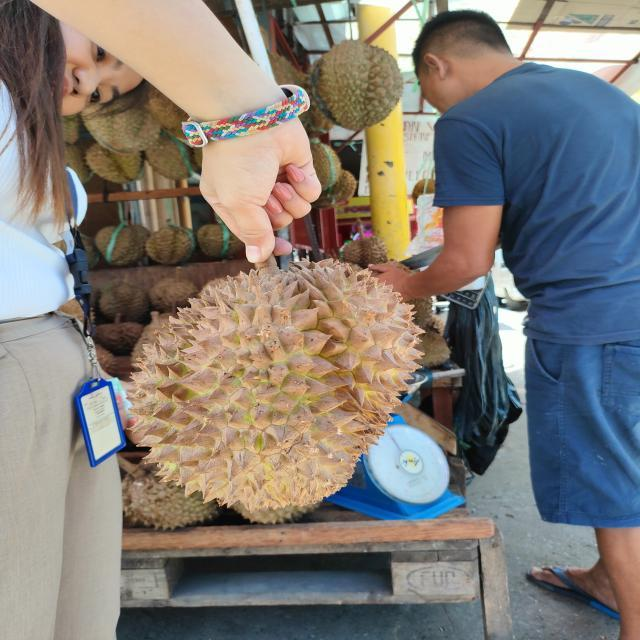mature: (122, 263, 428, 511)
